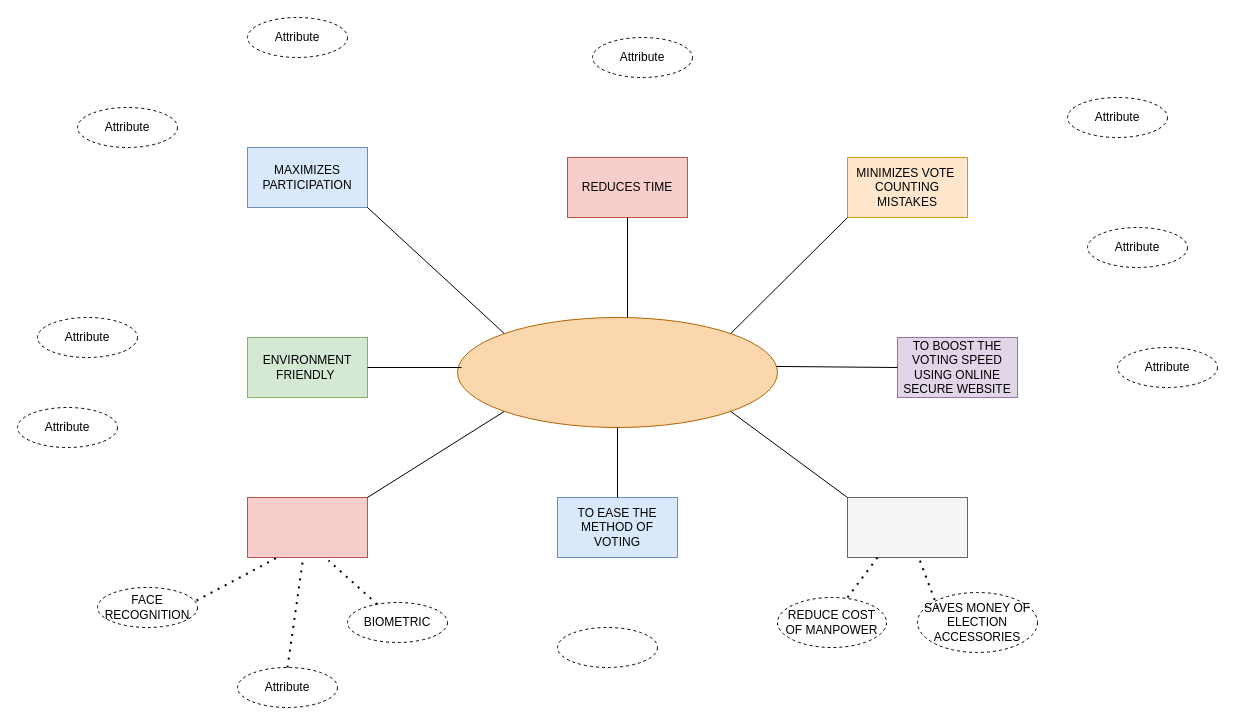
The diagram is 1235 pixels wide and 725 high, and some of its shapes have lost their labels. The shapes that lost their labels are listed below. From the top down, each one's centre as x and y in pixels, then its label:
At (x=617, y=372): "SMART VOTING SYSTEM".
At (x=307, y=527): "TO REDUCES FAKE VOTING".
At (x=907, y=527): "TO REDUCE THE BUDGET".
